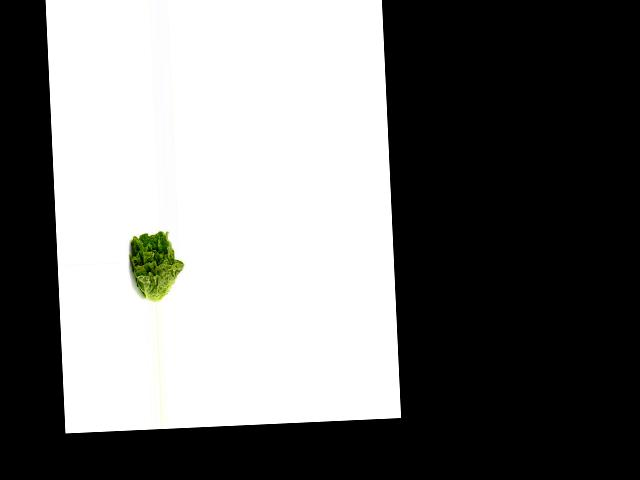lettuce: (124, 230, 184, 302)
